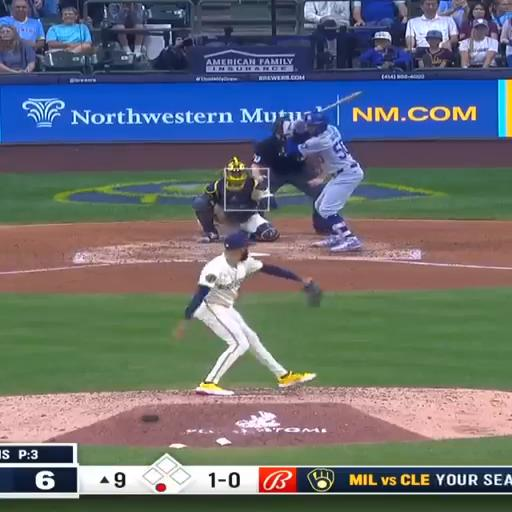bat: (315, 92, 361, 112), (318, 92, 361, 112)
